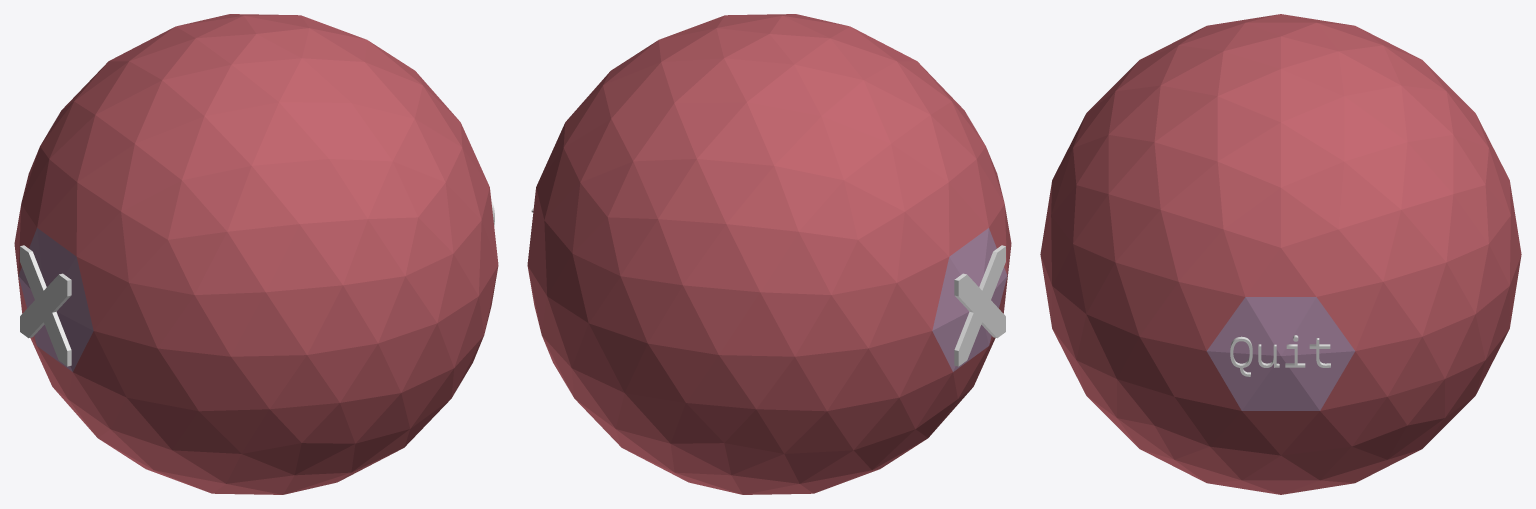
The model's file is QuitPlanet.fbx.
The picture shows the model from 3 angles, left to right: view 1: azimuth 30°, elevation 25°; view 2: azimuth 150°, elevation 25°; view 3: azimuth 270°, elevation 25°; orthographic projection.
Parts seen in each view (by area): view 1: QuitPlnet, QuitButton; view 2: QuitPlnet, QuitButton; view 3: QuitPlnet, QuitText.
Part boxes in pixels (<box>): QuitPlnet: <box>14,14,498,494</box>; QuitButton: <box>20,245,71,366</box>; QuitPlnet: <box>527,14,1011,494</box>; QuitButton: <box>954,245,1005,366</box>; QuitPlnet: <box>1040,14,1521,494</box>; QuitText: <box>1230,335,1330,376</box>.
Size of the model in its own units: 20.2 by 20 by 20.
